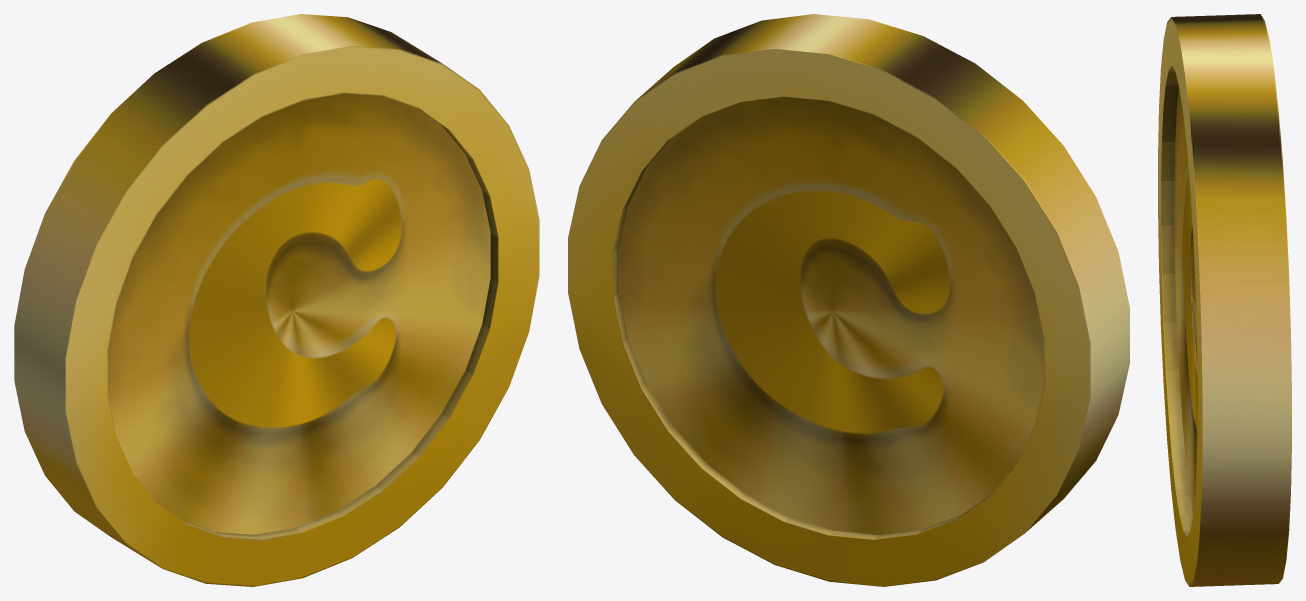
File: coin.002_lev1_lev2.glb
The picture shows the model from 3 angles, left to right: view 1: azimuth 30°, elevation 25°; view 2: azimuth 150°, elevation 25°; view 3: azimuth 270°, elevation 25°; orthographic projection. The views are drawn at different scales.
Parts seen in each view (by area): view 1: coin.002_lev1_lev2; view 2: coin.002_lev1_lev2; view 3: coin.002_lev1_lev2.
Part boxes in pixels (x1=…): coin.002_lev1_lev2: x1=14, y1=14, x2=539, y2=586; coin.002_lev1_lev2: x1=568, y1=14, x2=1129, y2=586; coin.002_lev1_lev2: x1=1158, y1=14, x2=1291, y2=586.
Size of the model in its own units: 1.11 by 1.1 by 0.2586.
Materials: 1 (1 with a texture image).
